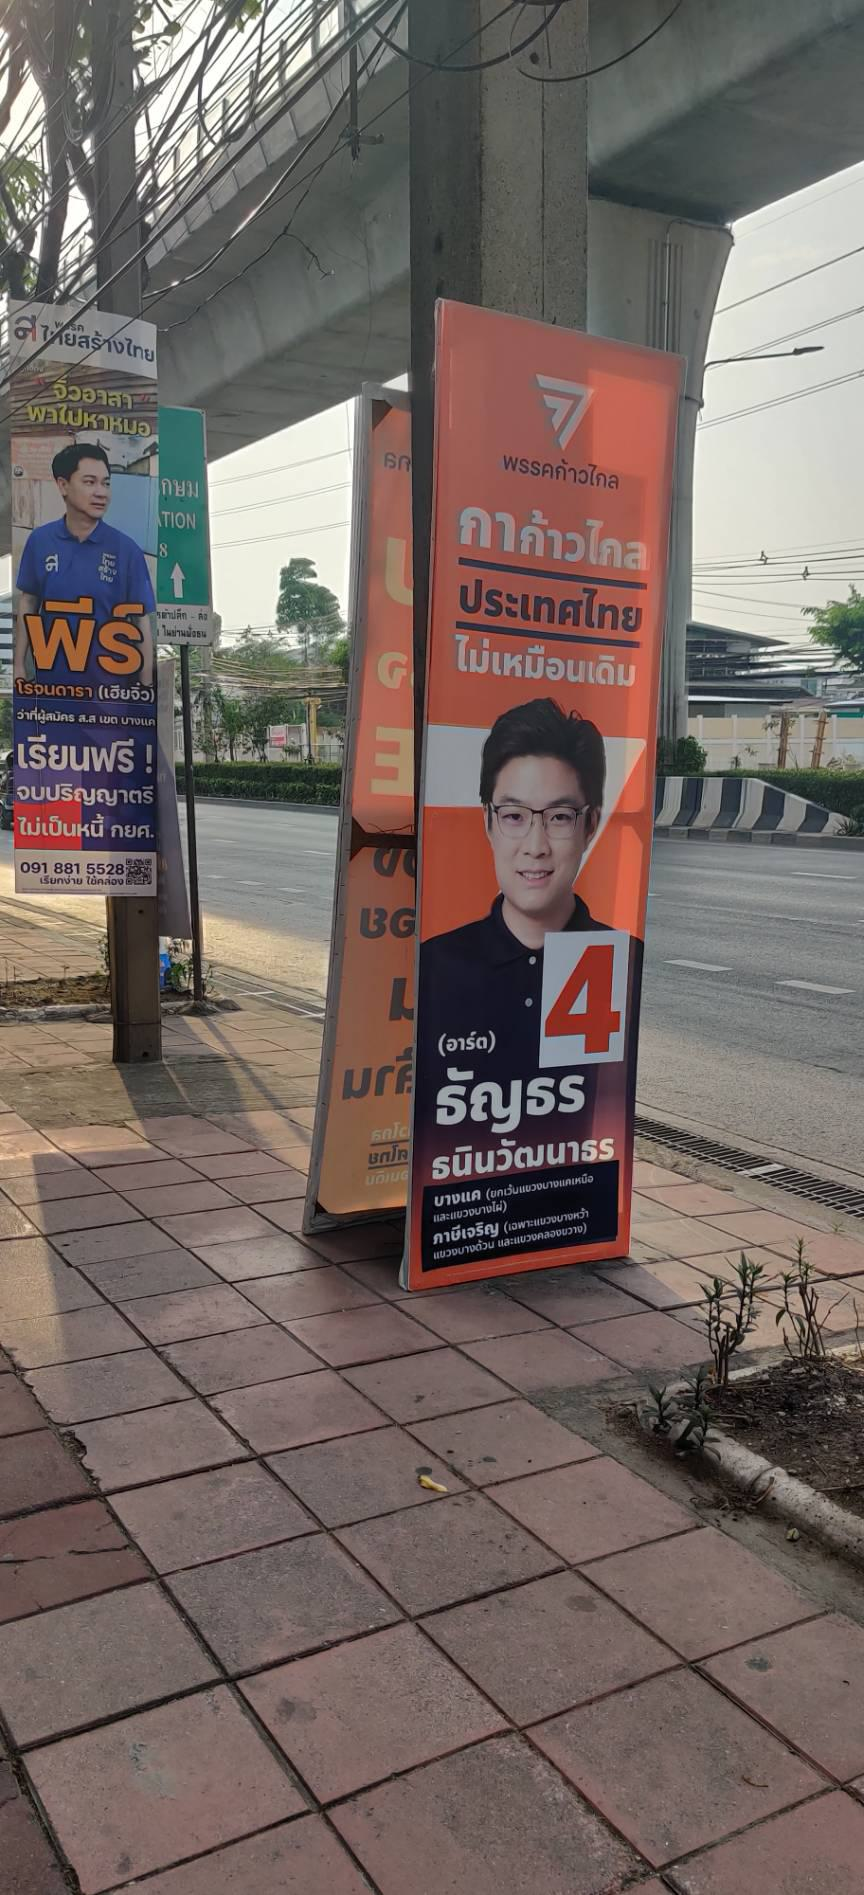Banner: (410, 294, 677, 1280), (0, 311, 155, 899)
